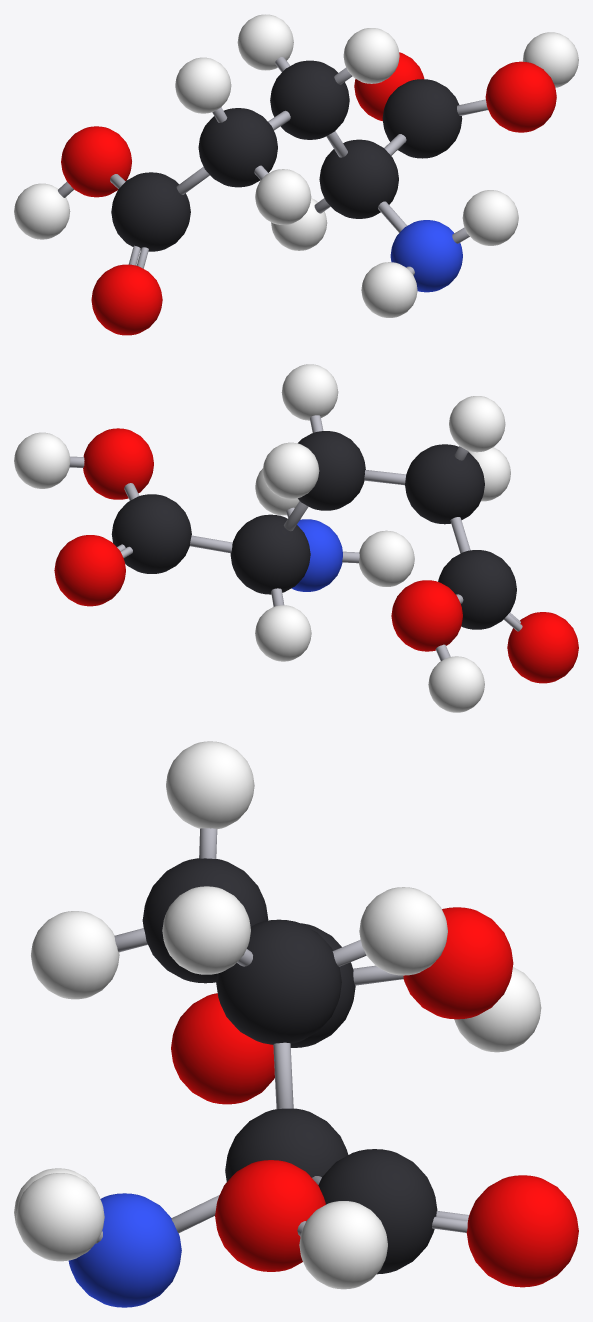
File: glutamic-acid.glb
The picture shows the model from 3 angles, top to bottom: view 1: azimuth 30°, elevation 25°; view 2: azimuth 150°, elevation 25°; view 3: azimuth 270°, elevation 25°; orthographic projection. The views are drawn at different scales.
Parts seen in each view (by area): view 1: C4, C7, C1, C3, C2, O5, O9, O6, N0, H16, H11, H13 (+7 smaller); view 2: C1, C3, C7, C4, O8, O6, O5, O9, C2, H12, H18, H17 (+9 smaller); view 3: C2, O8, O9, N0, C7, O6, O5, H13, H10, H14, H18, H16 (+7 smaller).
Boxes of the visible parts, bbox=[...] form: C4: bbox=[111, 172, 190, 251]; C7: bbox=[382, 79, 462, 158]; C1: bbox=[319, 139, 398, 218]; C3: bbox=[198, 108, 277, 187]; C2: bbox=[270, 60, 349, 139]; O5: bbox=[91, 264, 162, 335]; O9: bbox=[485, 61, 556, 132]; O6: bbox=[61, 126, 131, 197]; N0: bbox=[390, 220, 462, 292]; H16: bbox=[175, 57, 231, 113]; H11: bbox=[361, 262, 417, 317]; H13: bbox=[343, 28, 399, 83]; C1: bbox=[230, 514, 310, 594]; C3: bbox=[405, 444, 484, 524]; C7: bbox=[111, 494, 191, 573]; C4: bbox=[438, 550, 516, 629]; O8: bbox=[54, 535, 125, 606]; O6: bbox=[391, 580, 462, 651]; O5: bbox=[507, 612, 578, 683]; O9: bbox=[83, 428, 153, 499]; C2: bbox=[298, 431, 365, 510]; H12: bbox=[255, 605, 311, 661]; H18: bbox=[14, 432, 70, 488]; H17: bbox=[428, 656, 484, 712]; C2: bbox=[216, 919, 341, 1044]; O8: bbox=[466, 1175, 578, 1287]; O9: bbox=[215, 1160, 325, 1271]; N0: bbox=[68, 1193, 181, 1307]; C7: bbox=[318, 1149, 437, 1274]; O6: bbox=[403, 907, 513, 1019]; O5: bbox=[171, 993, 274, 1104]; H13: bbox=[162, 886, 250, 974]; H10: bbox=[16, 1173, 104, 1261]; H14: bbox=[359, 887, 447, 975]; H18: bbox=[299, 1201, 387, 1289]; H16: bbox=[166, 741, 254, 829].
Bounding box in the file's own units: 7.63 × 3.66 × 4.58.
